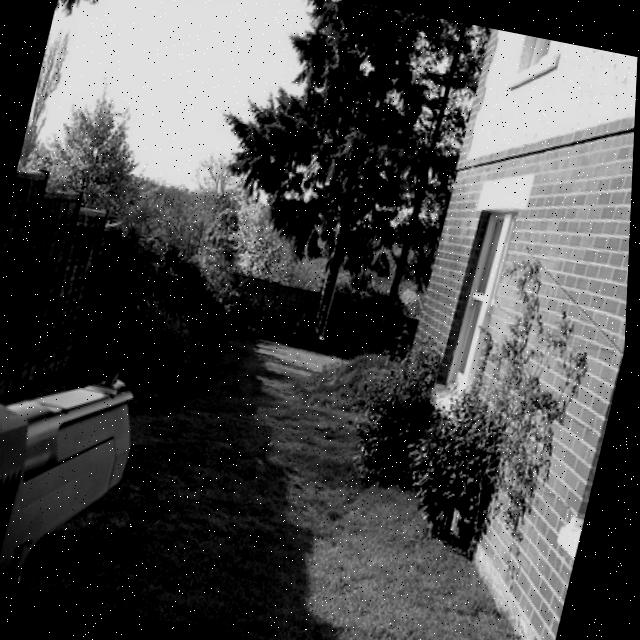pistol: (0, 336, 155, 607)
